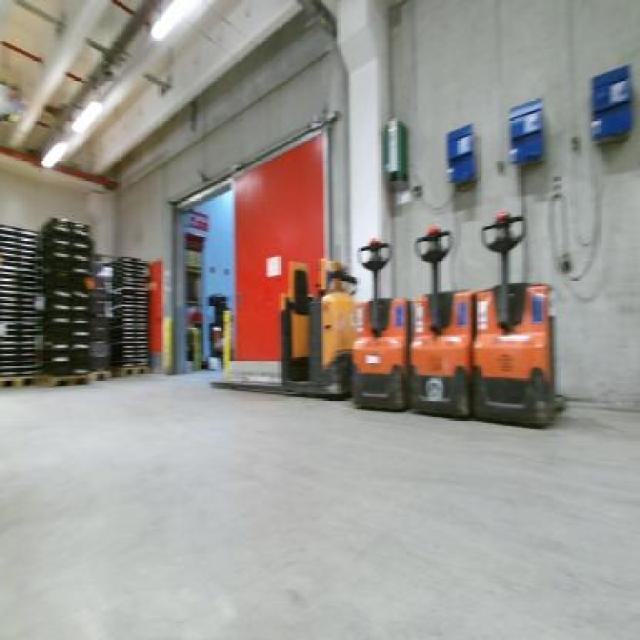ground: (0, 367, 638, 638)
pallet: (0, 373, 48, 393), (44, 372, 97, 387), (120, 364, 155, 377), (89, 370, 117, 382)
